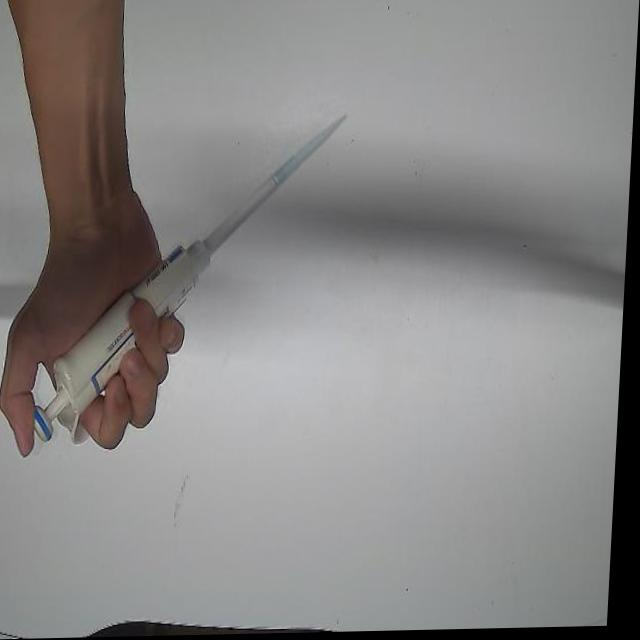Single Channel Pipettor: (30, 157, 301, 451)
